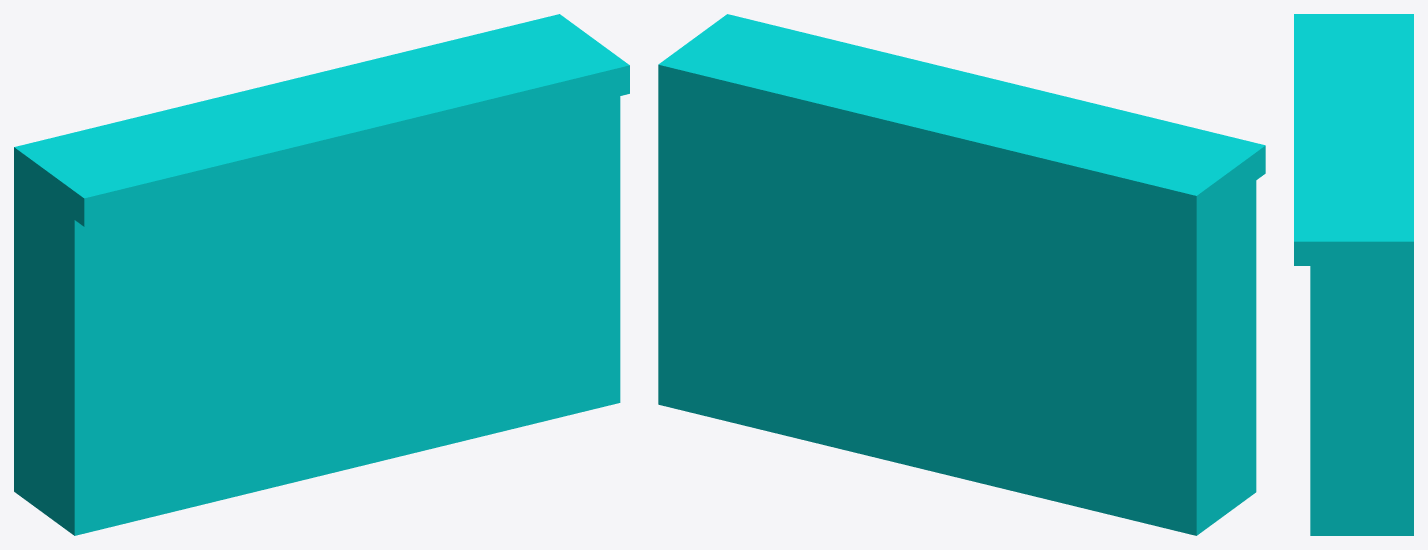
File: SM_Prop_Fireplace_01_Collision.fbx
The picture shows the model from 3 angles, left to right: view 1: azimuth 30°, elevation 25°; view 2: azimuth 150°, elevation 25°; view 3: azimuth 270°, elevation 25°; orthographic projection. The views are drawn at different scales.
Visible parts, largest first — view 1: SM_Prop_Fireplace_01_Collision; view 2: SM_Prop_Fireplace_01_Collision; view 3: SM_Prop_Fireplace_01_Collision.
Boxes of the visible parts, bbox=[...] form: SM_Prop_Fireplace_01_Collision: bbox=[14, 14, 629, 535]; SM_Prop_Fireplace_01_Collision: bbox=[658, 14, 1265, 535]; SM_Prop_Fireplace_01_Collision: bbox=[1294, 14, 1413, 535].
Bounding box in the file's own units: 249 × 150 × 55.32.
